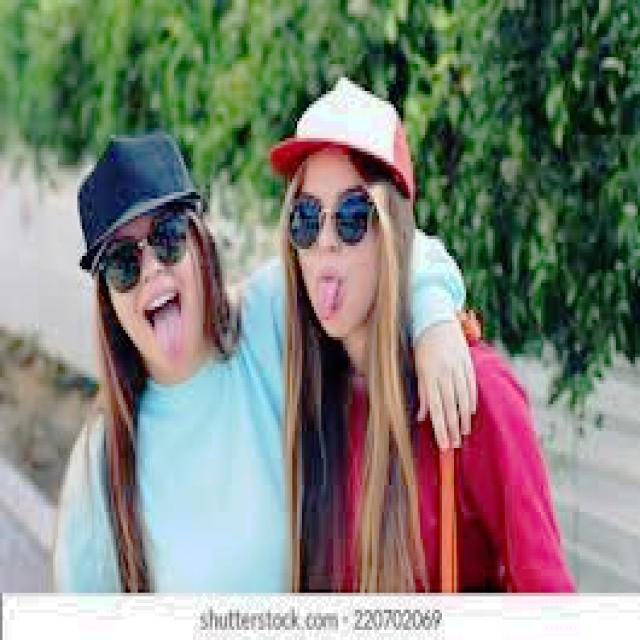TOPI: (264, 74, 416, 195), (70, 125, 198, 262)
